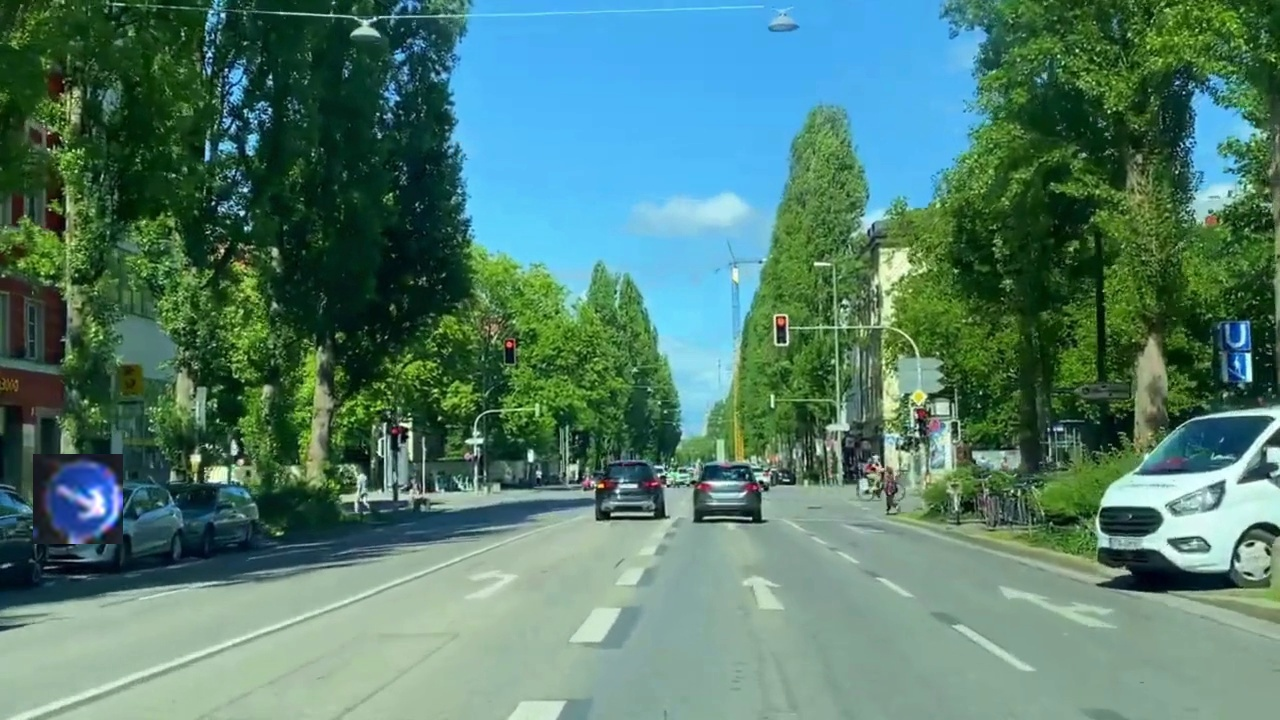Keep right: (33, 454, 123, 544)
